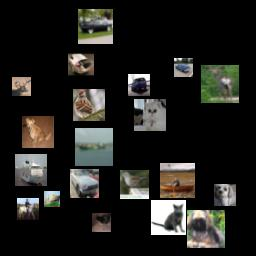automobile: (78, 9, 113, 44), (70, 169, 99, 198), (68, 51, 94, 77), (128, 74, 150, 96), (174, 58, 193, 77)
bird: (73, 89, 105, 121), (120, 170, 149, 199)
cat: (151, 200, 186, 235), (134, 99, 166, 131), (92, 213, 111, 232)
deer: (201, 65, 239, 103), (12, 77, 31, 96)
dog: (187, 210, 225, 248), (22, 116, 54, 148), (214, 184, 236, 206)
ship: (75, 128, 113, 166), (160, 163, 195, 198), (15, 154, 47, 186), (44, 191, 60, 207)
